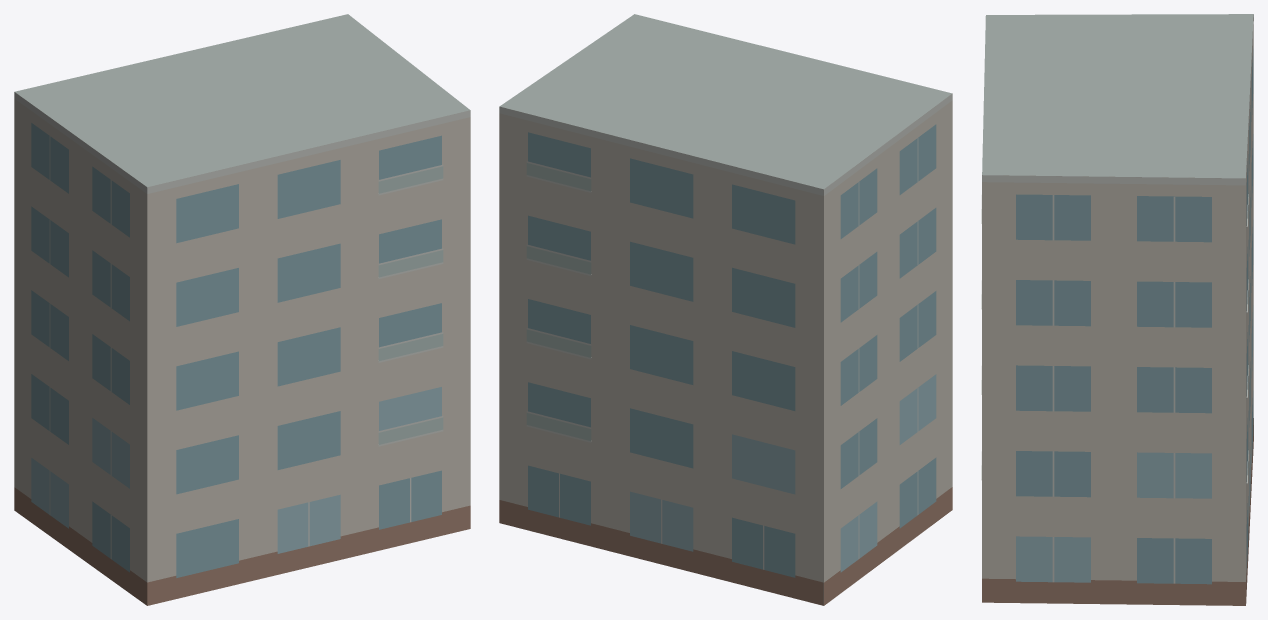
Rendered from survey-upis-32991053.glb.
The picture shows the model from 3 angles, left to right: view 1: azimuth 30°, elevation 25°; view 2: azimuth 150°, elevation 25°; view 3: azimuth 270°, elevation 25°; orthographic projection. The views are drawn at different scales.
Visible parts, largest first — view 1: survey-upis-32991053.tmp; view 2: survey-upis-32991053.tmp; view 3: survey-upis-32991053.tmp.
Part boxes in pixels (x1,y1,x2,y2): survey-upis-32991053.tmp: (14,14,470,605); survey-upis-32991053.tmp: (499,14,952,605); survey-upis-32991053.tmp: (981,14,1253,605).
Bounding box in the file's own units: 12.34 × 14.95 × 8.64.
